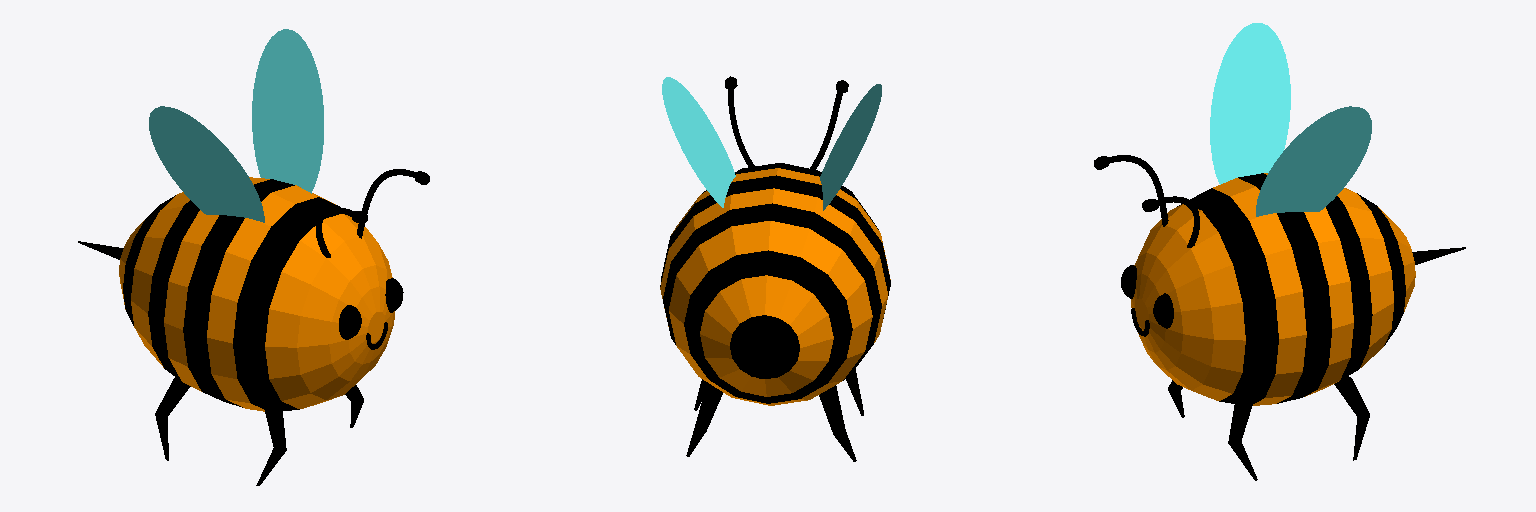
The model's file is beee2.obj.
The picture shows the model from 3 angles: view 1: azimuth 30°, elevation 25°; view 2: azimuth 150°, elevation 25°; view 3: azimuth 270°, elevation 25°; orthographic projection.
Visible parts, largest first — view 1: Cylinder.002; view 2: Cylinder.002; view 3: Cylinder.002.
Part boxes in pixels (left/top/right/bottom): Cylinder.002: left=78, top=29, right=429, bottom=485; Cylinder.002: left=660, top=76, right=890, bottom=461; Cylinder.002: left=1094, top=23, right=1465, bottom=480.
Size of the model in its own units: 2.5 by 4.07 by 3.74.